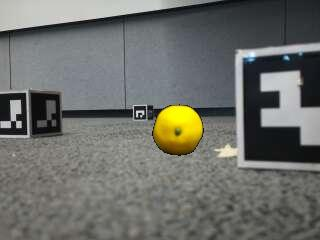lemon: (153, 106, 202, 155)
